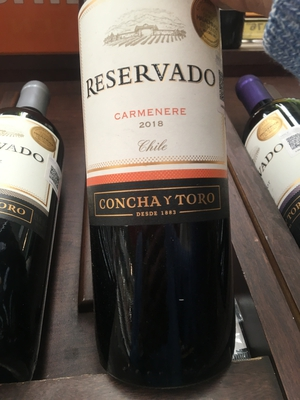reservado carmenere: (73, 2, 240, 387)
